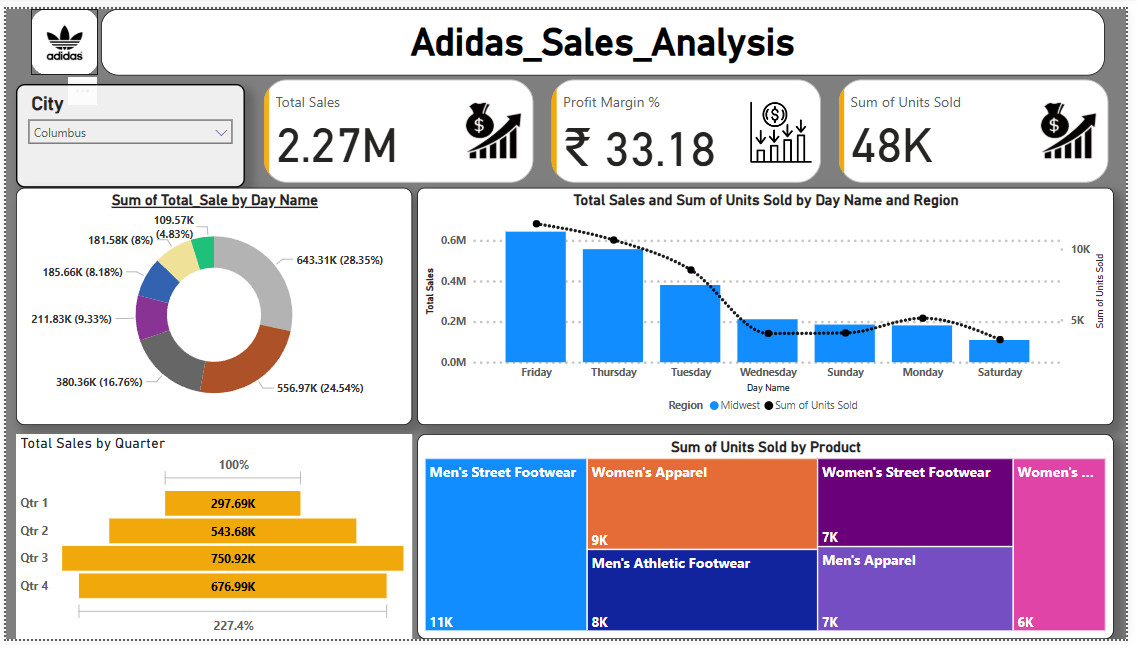

Layout of this report page (visuals, bound fields, positions):
{"tool":"powerbi","page":{"name":"citywise_analysis","canvas":[1280,720],"ordinal":0},"visuals":[{"type":"shape","box":[28.6,0,77.1,75.7],"z":0},{"type":"image","box":[38.6,10,57.1,57.1],"z":1000},{"type":"textbox","box":[108.6,0,1147.1,75.7],"z":2000},{"type":"slicer","fields":{"Values":["Adidas_Sale.City"]},"box":[11.4,85.7,261.4,118.6],"z":3000},{"type":"donutChart","fields":{"Category":["Adidas_Sale.Day Name"],"Y":["Sum(Adidas_Sale.Total_Sale)"]},"box":[11.4,204.3,452.9,271.4],"z":4000},{"type":"lineStackedColumnComboChart","fields":{"Category":["Adidas_Sale.Day Name"],"Y":["Adidas_Sale.Total Sales"],"Y2":["Sum(Adidas_Sale.Units Sold)"],"Series":["Adidas_Sale.Region"]},"box":[470,204.3,795.7,271.4],"z":5000},{"type":"cardVisual","title":"total sale","fields":{"Data":["Sum(Adidas_Sale.Units Sold)"]},"box":[947.1,75.7,318.6,128.6],"z":6000},{"type":"cardVisual","title":"total sale","fields":{"Data":["Adidas_Sale.Profit Margin %"]},"box":[618.6,75.7,318.6,128.6],"z":7000},{"type":"cardVisual","title":"total sale","fields":{"Data":["Adidas_Sale.Total Sales"]},"box":[290,75.7,318.6,128.6],"z":8000},{"type":"treemap","fields":{"Group":["Adidas_Sale.Product"],"Values":["Sum(Adidas_Sale.Units Sold)"]},"box":[470,485.7,795.7,234.3],"z":9000},{"type":"funnel","fields":{"Y":["Adidas_Sale.Total Sales"],"Category":["Adidas_Sale.Invoice Date.Variation.Date Hierarchy.Quarter"]},"box":[11,486,453,234],"z":10000}]}

Visuals, with their boxes in screenshot pixels (x1, y1, x2, y2), scaled from the page's 1280x720 canvas onto the 1137x650 screenshot:
shape: l=25, t=0, r=94, b=68
image: l=34, t=9, r=85, b=61
textbox: l=96, t=0, r=1115, b=68
slicer - Adidas_Sale.City: l=10, t=77, r=242, b=184
donutChart - Adidas_Sale.Day Name x Sum(Adidas_Sale.Total_Sale): l=10, t=184, r=412, b=429
lineStackedColumnComboChart - Adidas_Sale.Day Name x Adidas_Sale.Total Sales: l=417, t=184, r=1124, b=429
"total sale" cardVisual: l=841, t=68, r=1124, b=184
"total sale" cardVisual: l=549, t=68, r=832, b=184
"total sale" cardVisual: l=258, t=68, r=541, b=184
treemap - Adidas_Sale.Product x Sum(Adidas_Sale.Units Sold): l=417, t=438, r=1124, b=649
funnel - Adidas_Sale.Total Sales x Adidas_Sale.Invoice Date.Variation.Date Hierarchy.Quarter: l=10, t=439, r=412, b=649
